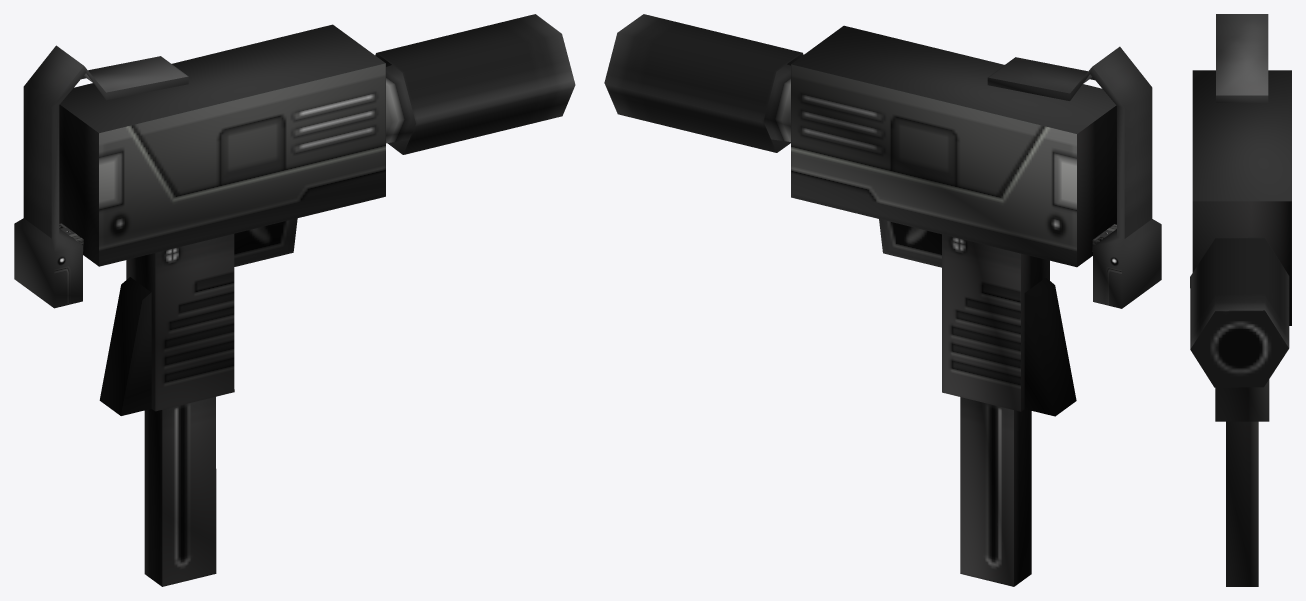
File: smg uzi lv2.FBX
The picture shows the model from 3 angles, left to right: view 1: azimuth 30°, elevation 25°; view 2: azimuth 150°, elevation 25°; view 3: azimuth 270°, elevation 25°; orthographic projection. The views are drawn at different scales.
Parts seen in each view (by area): view 1: Object053; view 2: Object053; view 3: Object053.
Boxes of the visible parts, x1,y1,x2,y2 form: Object053: (14, 14, 575, 586); Object053: (604, 14, 1161, 586); Object053: (1190, 14, 1291, 586).
Bounding box in the file's own units: 48.19 × 48.92 × 8.83.
